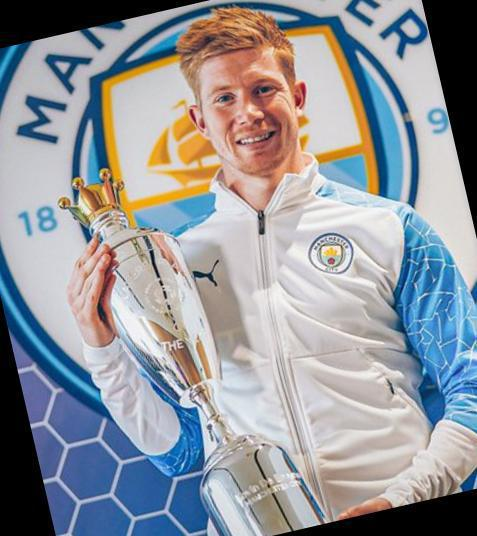Sober: (199, 54, 296, 163)
